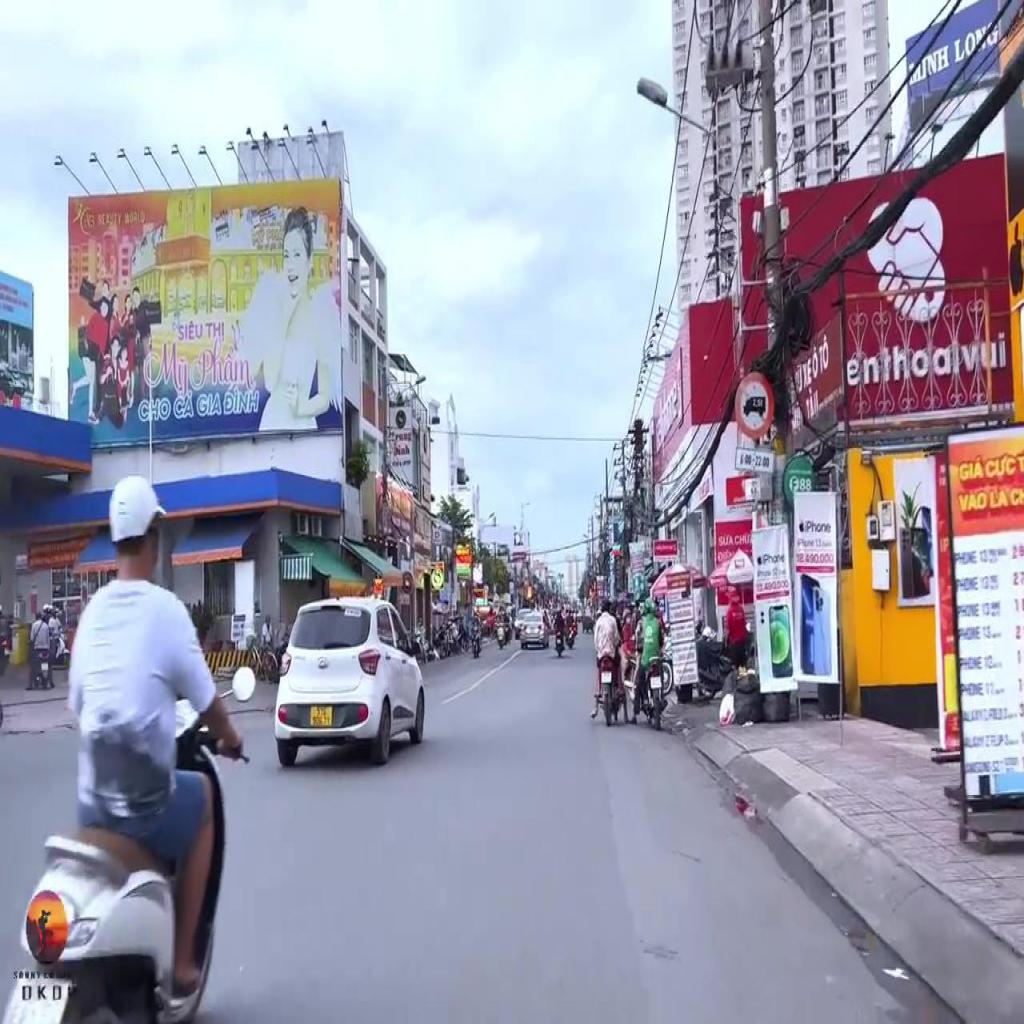cam_o_to_tai_trong_luong_qua_2-5t: (733, 368, 775, 441)
khac: (735, 450, 775, 474)
